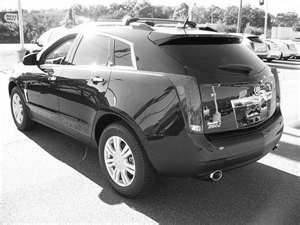car: (10, 18, 285, 199)
